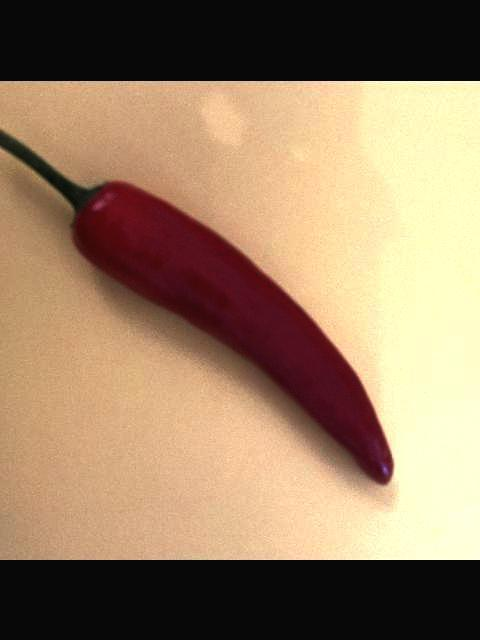chilli: (0, 103, 395, 487)
